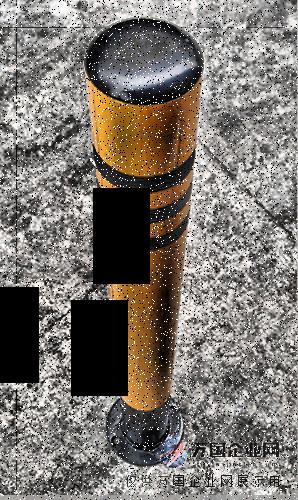bench: (79, 11, 204, 459)
